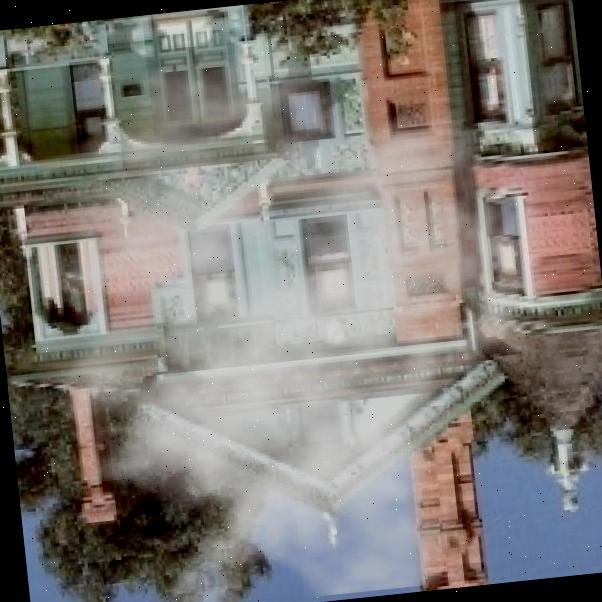smoke: (0, 17, 581, 602)
